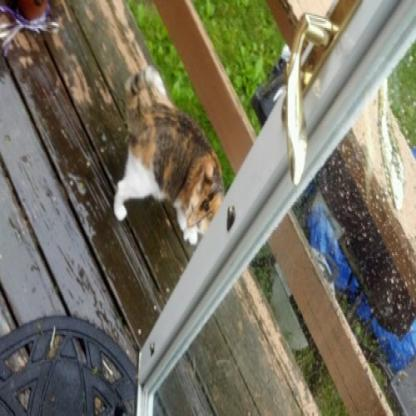Target: (119, 58, 228, 256)
